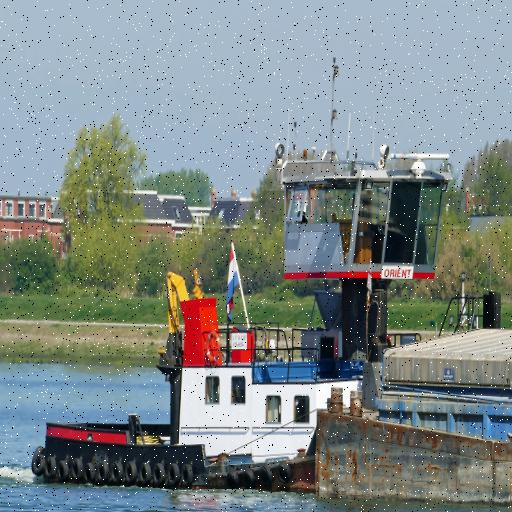tugboat: (30, 143, 512, 502)
